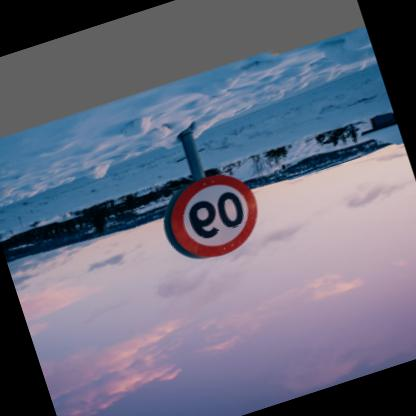speedlimit: (151, 170, 266, 274)
